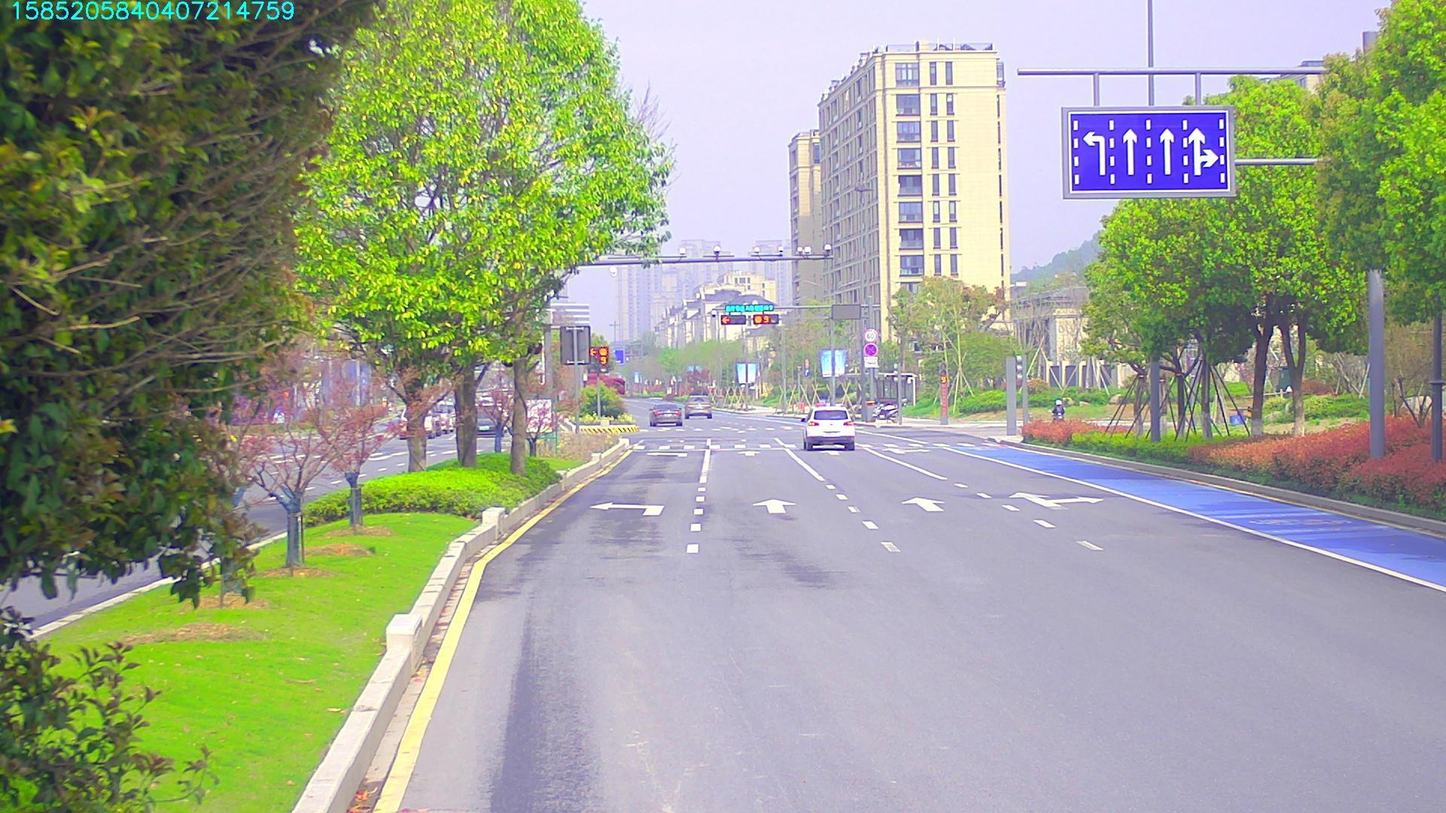red: (752, 312, 776, 324), (721, 315, 745, 322)
wait_on: (722, 302, 770, 311)
